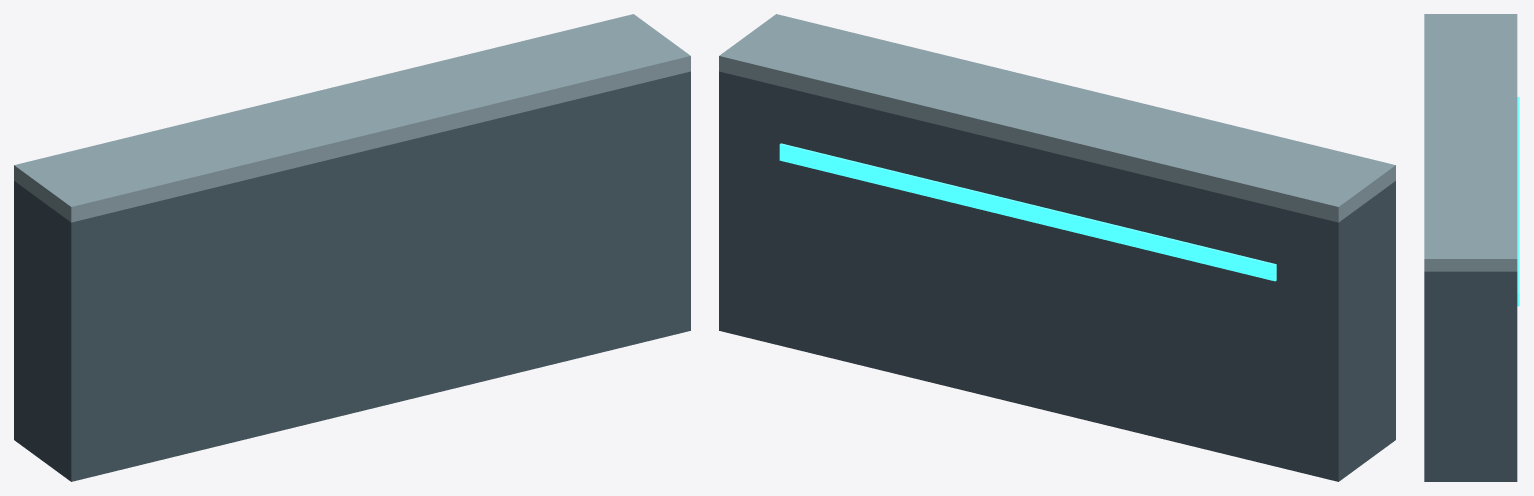
File: floor_edge.glb
The picture shows the model from 3 angles, left to right: view 1: azimuth 30°, elevation 25°; view 2: azimuth 150°, elevation 25°; view 3: azimuth 270°, elevation 25°; orthographic projection. The views are drawn at different scales.
Visible parts, largest first — view 1: Fascia, TopTrim; view 2: Fascia, TopTrim, InsetStripe; view 3: TopTrim, Fascia, InsetStripe.
Boxes of the visible parts, x1=… form: Fascia: x1=14, y1=71, x2=690, y2=481; TopTrim: x1=14, y1=14, x2=690, y2=222; Fascia: x1=719, y1=71, x2=1395, y2=481; TopTrim: x1=719, y1=14, x2=1395, y2=222; InsetStripe: x1=779, y1=143, x2=1276, y2=281; TopTrim: x1=1424, y1=14, x2=1517, y2=271; Fascia: x1=1424, y1=271, x2=1517, y2=481; InsetStripe: x1=1517, y1=97, x2=1519, y2=306.
Bounding box in the file's own units: 2 × 0.848 × 0.328.
